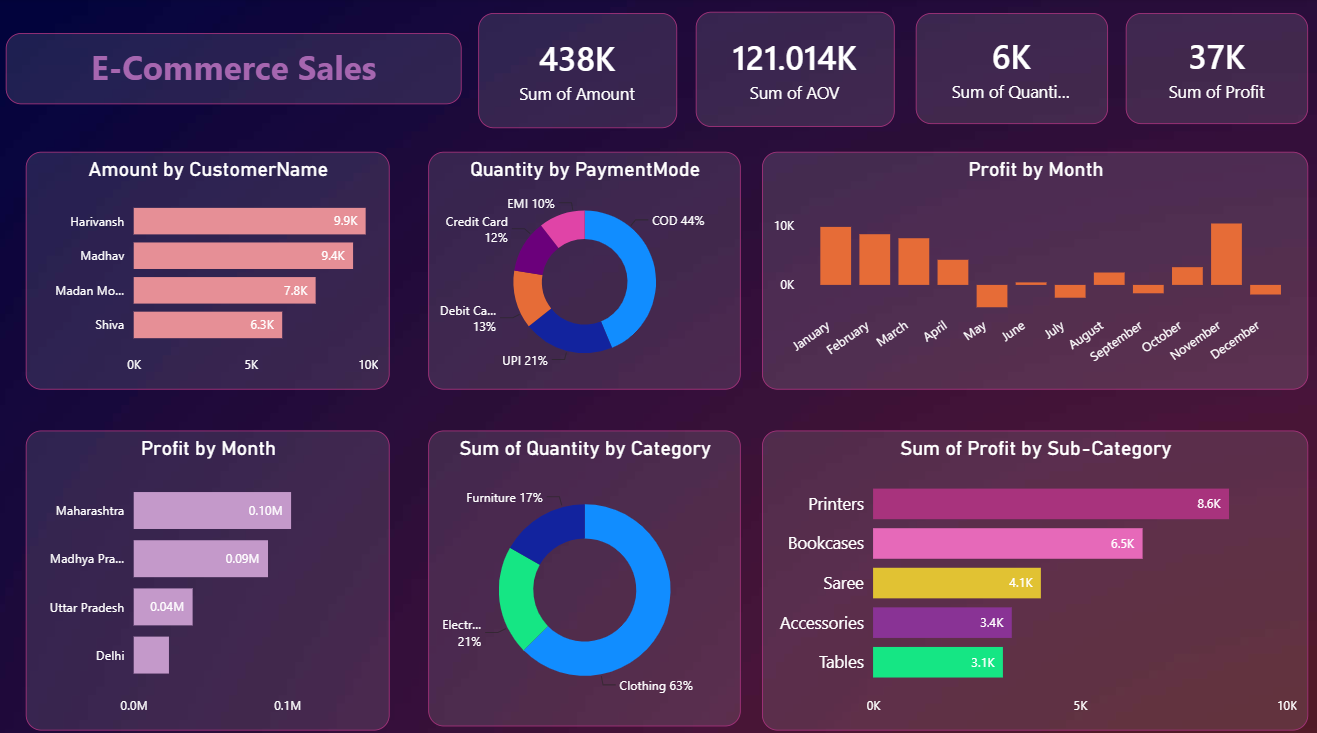

What the dashboard file says about the page in this screenshot:
{"tool":"powerbi","page":{"name":"Page 1","canvas":[1280,720],"ordinal":0},"visuals":[{"type":"textbox","box":[8.4,33.8,440.4,68.8],"z":0},{"type":"clusteredColumnChart","title":" Profit by Month","fields":{"Category":["Orders.Order Date.Variation.Date Hierarchy.Month"],"Y":["Sum(Details.Profit)"]},"box":[738.3,148.4,527.2,229.2],"z":1000},{"type":"barChart","fields":{"Category":["Details.Sub-Category"],"Y":["Sum(Details.Profit)"]},"box":[738.3,417.4,527.2,289.5],"z":2000},{"type":"donutChart","fields":{"Category":["Details.Category"],"Y":["Sum(Details.Quantity)"]},"box":[416.2,417.4,301.6,285.9],"z":3000},{"type":"donutChart","title":"Quantity by PaymentMode","fields":{"Category":["Details.PaymentMode"],"Y":["Sum(Details.Quantity)"]},"box":[416.2,148.4,301.6,229.2],"z":4000},{"type":"cardVisual","fields":{"Data":["Sum(Details.Amount)"]},"box":[464.5,14.5,191.8,111],"z":5000},{"type":"cardVisual","fields":{"Data":["Sum(Details.Quantity)"]},"box":[886.7,14.5,185.8,107.4],"z":6000},{"type":"cardVisual","fields":{"Data":["Sum(Details.Profit)"]},"box":[1089.4,14.5,176.1,107.4],"z":7000},{"type":"cardVisual","fields":{"Data":["Sum(Details.AOV)"]},"box":[674.4,13.3,191.8,111],"z":8000},{"type":"barChart","title":" Profit by Month","fields":{"Category":["Orders.State"],"Y":["Sum(Details.Amount)"]},"box":[27.4,417.2,351.3,289.5],"z":9000},{"type":"barChart","title":" Amount by CustomerName","fields":{"Category":["Orders.CustomerName"],"Y":["Sum(Details.Amount)"]},"box":[27.7,148.4,351.1,229.2],"z":10000}]}

Visuals, with their boxes in screenshot pixels (x1, y1, x2, y2), scaled from the page's 1280x720 canvas onto the 1317x733 screenshot:
textbox: [left=9, top=34, right=462, bottom=104]
" Profit by Month" clusteredColumnChart: [left=760, top=151, right=1302, bottom=384]
barChart - Details.Sub-Category x Sum(Details.Profit): [left=760, top=425, right=1302, bottom=720]
donutChart - Details.Category x Sum(Details.Quantity): [left=428, top=425, right=739, bottom=716]
"Quantity by PaymentMode" donutChart: [left=428, top=151, right=739, bottom=384]
cardVisual - Sum(Details.Amount): [left=478, top=15, right=675, bottom=128]
cardVisual - Sum(Details.Quantity): [left=912, top=15, right=1104, bottom=124]
cardVisual - Sum(Details.Profit): [left=1121, top=15, right=1302, bottom=124]
cardVisual - Sum(Details.AOV): [left=694, top=14, right=891, bottom=127]
" Profit by Month" barChart: [left=28, top=425, right=390, bottom=719]
" Amount by CustomerName" barChart: [left=29, top=151, right=390, bottom=384]
